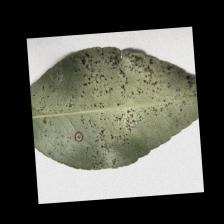canker: (67, 53, 165, 146)
